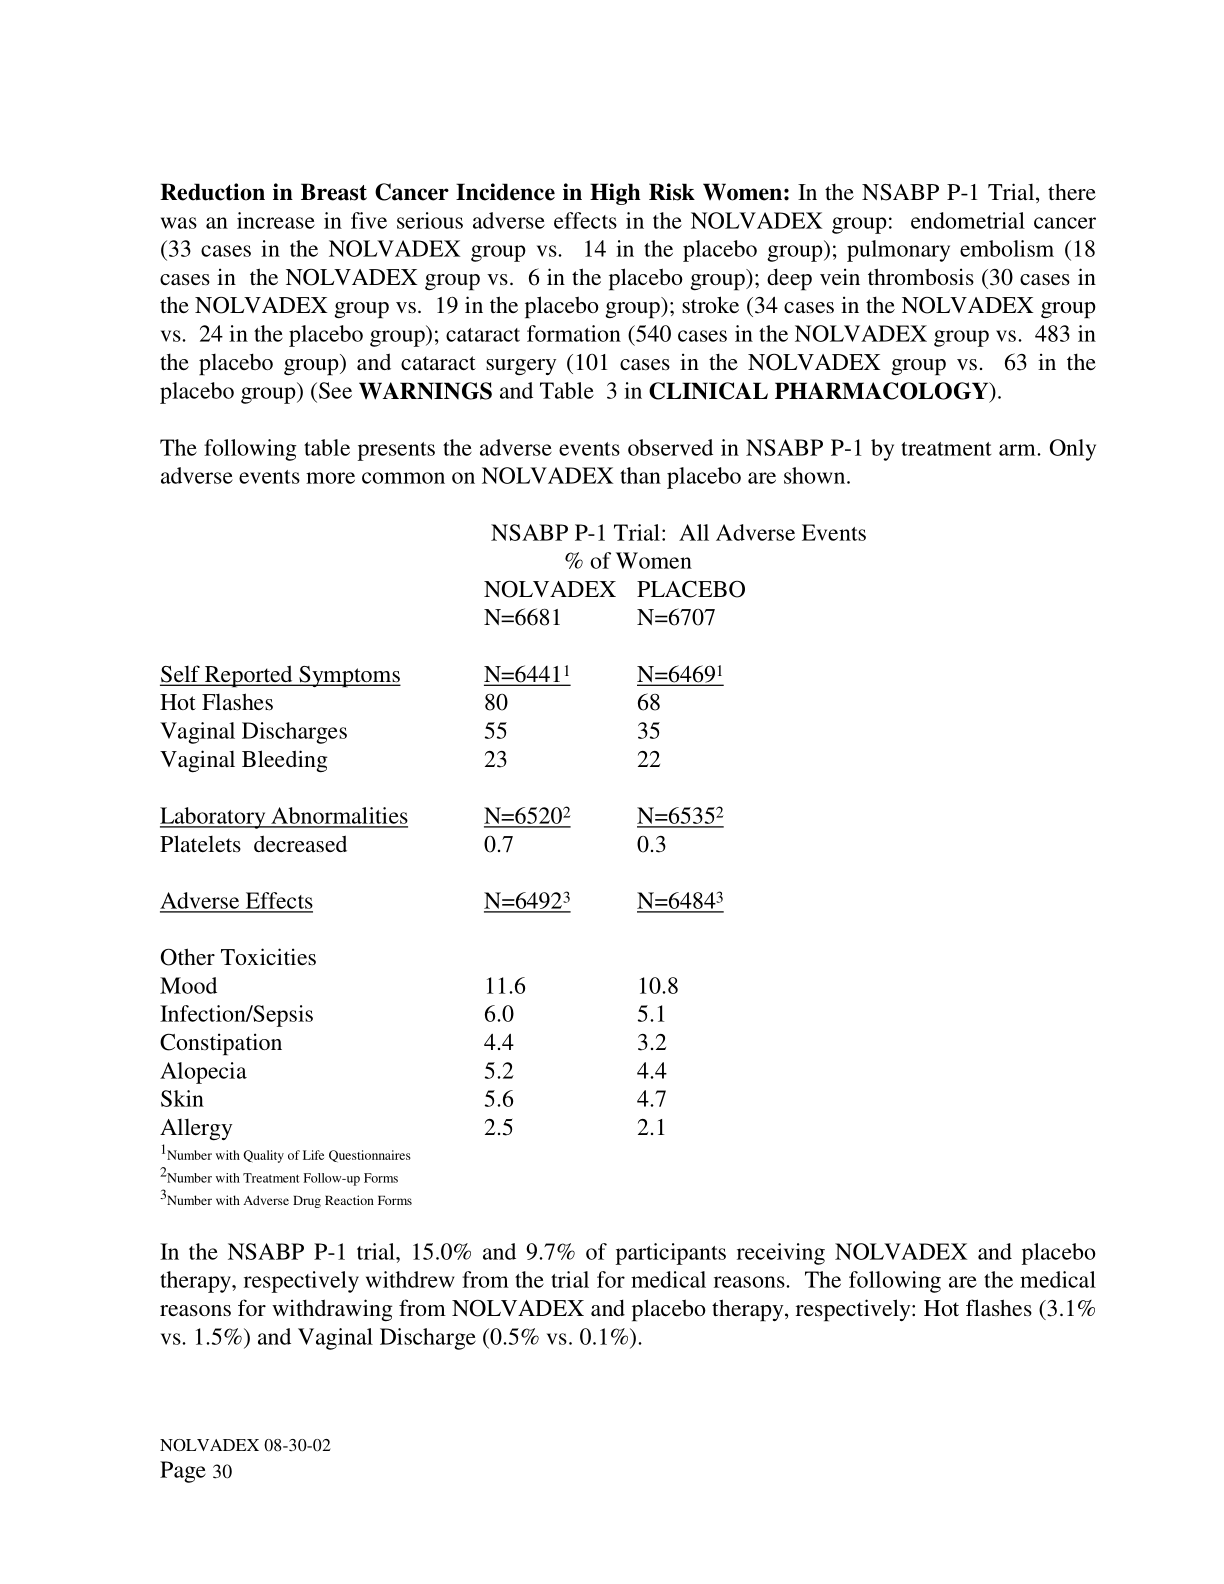nolines: (156, 518, 867, 1139)
